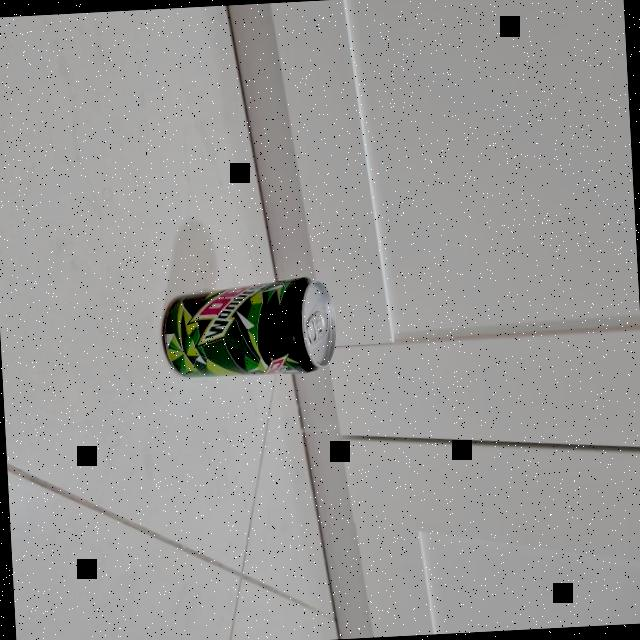can: (155, 261, 337, 391)
